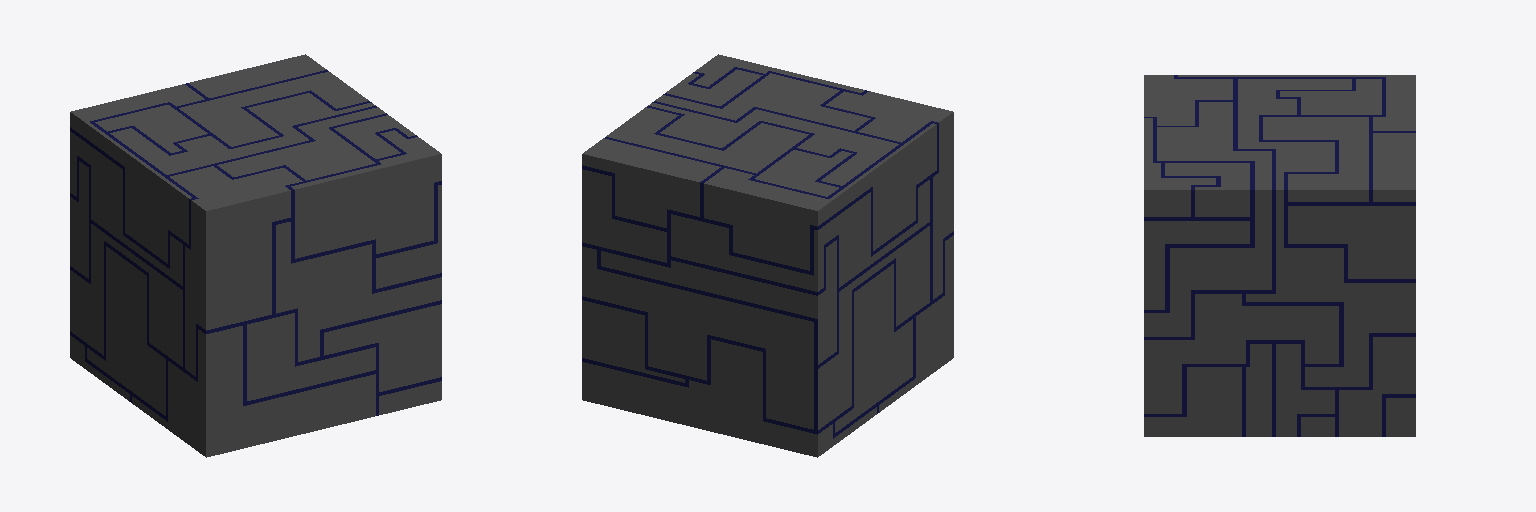
3 views of the same model, side by side, from view 1: azimuth 30°, elevation 25°; view 2: azimuth 150°, elevation 25°; view 3: azimuth 270°, elevation 25° (orthographic).
Parts seen in each view (by area): view 1: Cube; view 2: Cube; view 3: Cube.
Part boxes in pixels (x1,y1,x2,y2): Cube: (70, 54, 441, 457); Cube: (582, 54, 953, 457); Cube: (1144, 75, 1415, 436).
Bounding box in the file's own units: 2 × 2 × 2.
Materials: 1 (1 with a texture image).